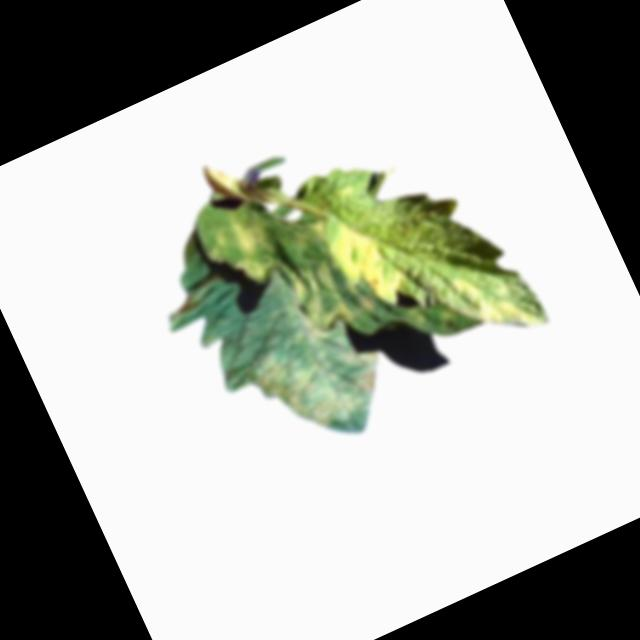Leaf_Mold: (240, 304, 405, 460), (319, 208, 411, 316), (442, 251, 533, 349), (209, 211, 287, 296), (283, 253, 357, 340)
